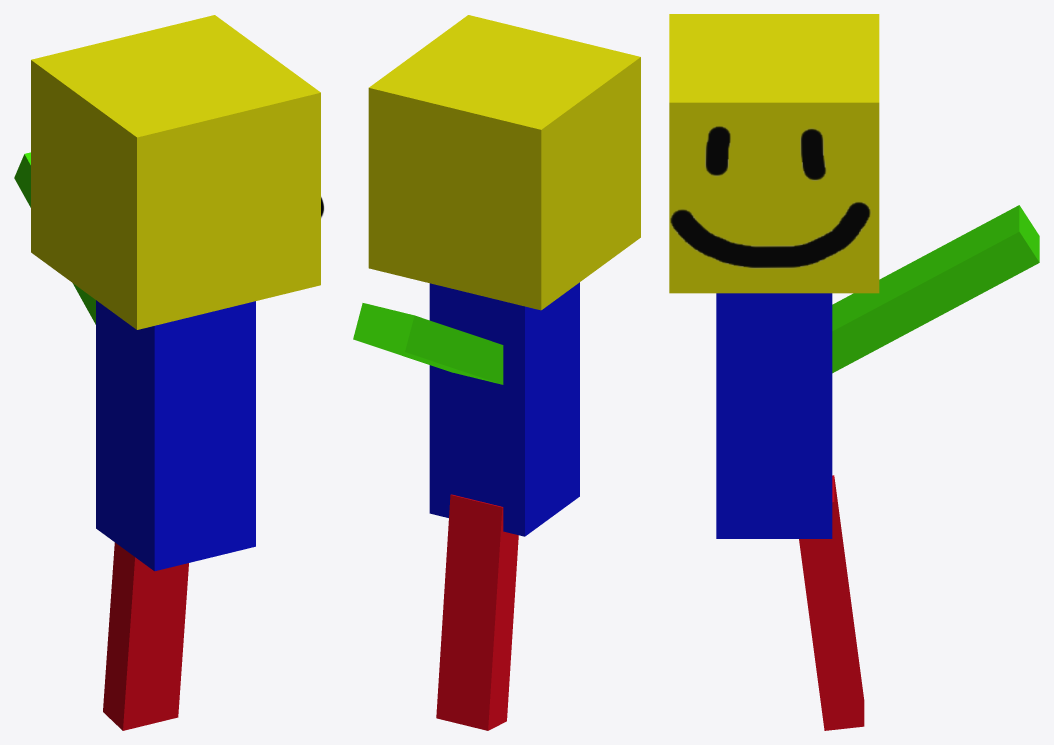
File: character.glb
3 views of the same model, side by side, from view 1: azimuth 30°, elevation 25°; view 2: azimuth 150°, elevation 25°; view 3: azimuth 270°, elevation 25° (orthographic). The views are drawn at different scales.
Visible parts, largest first — view 1: Head, Torso, Legs, Arms; view 2: Head, Torso, Legs, Arms; view 3: Head, Torso, Arms, Legs, Face.
Boxes of the visible parts, bbox=[...] form: Head: bbox=[31, 15, 320, 329]; Torso: bbox=[96, 300, 255, 571]; Legs: bbox=[103, 542, 188, 730]; Arms: bbox=[14, 152, 95, 324]; Head: bbox=[368, 15, 640, 310]; Torso: bbox=[429, 282, 579, 536]; Legs: bbox=[436, 494, 518, 730]; Arms: bbox=[353, 303, 503, 384]; Head: bbox=[669, 14, 879, 293]; Torso: bbox=[716, 293, 832, 538]; Arms: bbox=[832, 205, 1039, 373]; Legs: bbox=[799, 475, 864, 730]; Face: bbox=[670, 126, 870, 268].
Size of the model in its own units: 2.04 by 6.92 by 3.53.
Materials: 5 (1 with a texture image).
